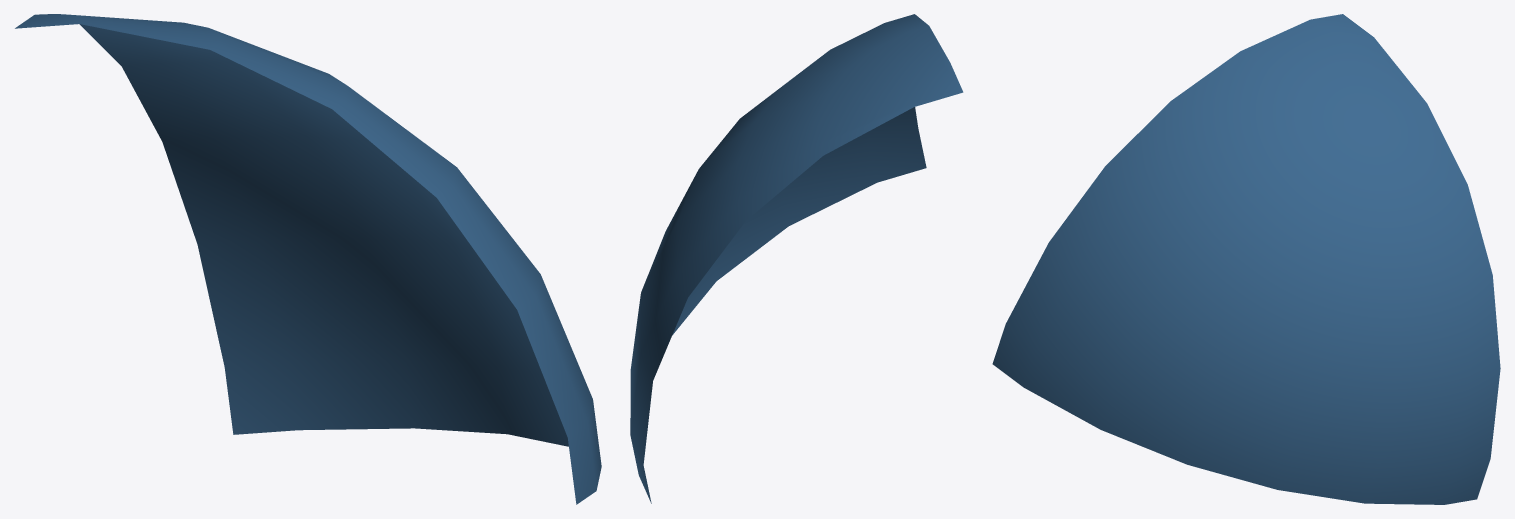
File: original-5.obj
3 renders of one model, left to right at view 1: azimuth 30°, elevation 25°; view 2: azimuth 150°, elevation 25°; view 3: azimuth 270°, elevation 25°, orthographic. The views are drawn at different scales.
Visible parts, largest first — view 1: globe_quarter3/globe_quarter/mesh1/mesh1-geometry#mesh1-geometry; view 2: globe_quarter3/globe_quarter/mesh1/mesh1-geometry#mesh1-geometry; view 3: globe_quarter3/globe_quarter/mesh1/mesh1-geometry#mesh1-geometry.
Part boxes in pixels (box(x1,y1,x2,y2)): globe_quarter3/globe_quarter/mesh1/mesh1-geometry#mesh1-geometry: box(15, 14, 601, 504); globe_quarter3/globe_quarter/mesh1/mesh1-geometry#mesh1-geometry: box(630, 14, 963, 503); globe_quarter3/globe_quarter/mesh1/mesh1-geometry#mesh1-geometry: box(992, 14, 1500, 504).
Size of the model in its own units: 0.5848 by 0.7102 by 0.8434.
